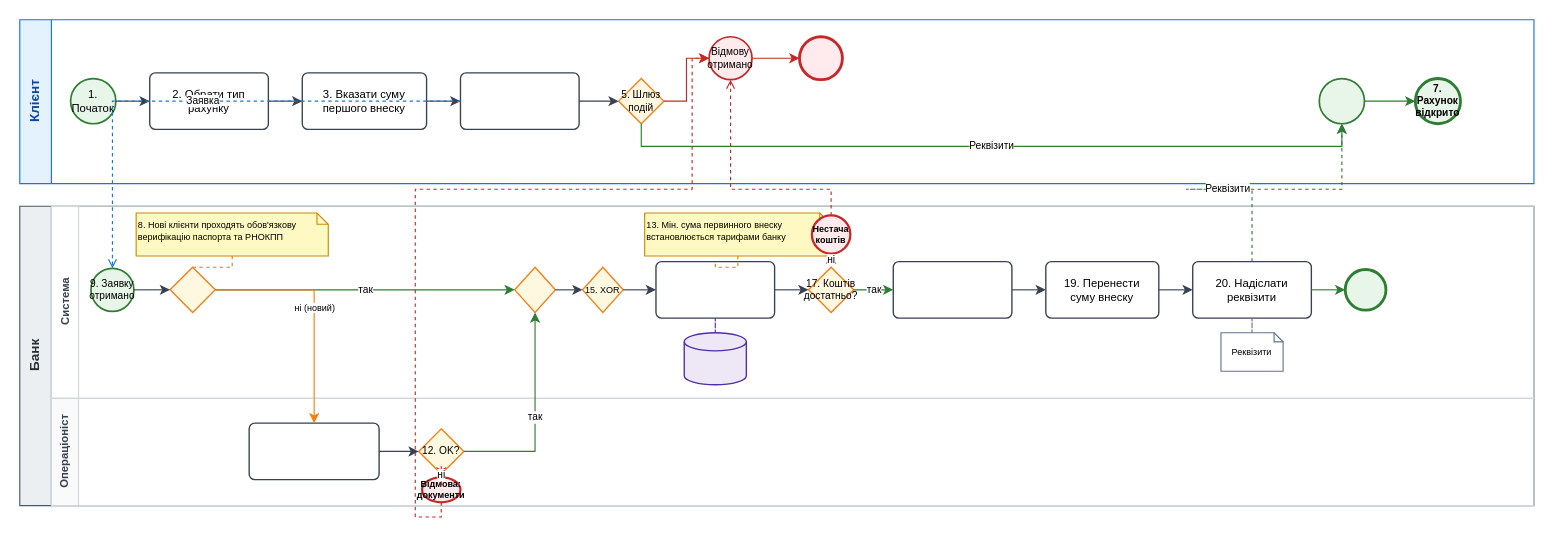
Some shapes in this 1554 by 546 pixel diagram are drawn without their labels. The centre of each missing label's shape, as x and y in pixels:
"10. Клієнт відомий?" goes at [192,289].
"11. Перевірити документи (KYC)" goes at [313,451].
"14. XOR" goes at [534,289].
"16. Перевірити суму внеску" goes at [715,289].
"18. Згенерувати IBAN рахунку" goes at [952,289].
"21. Кінець" goes at [1365,289].
"4. Надіслати заявку" goes at [519,100].
"6. Реквізити отримано" goes at [1341,100].
"Сховище «Рахунки»" goes at [714,358].
"У відкритті відмовлено" goes at [820,58].
